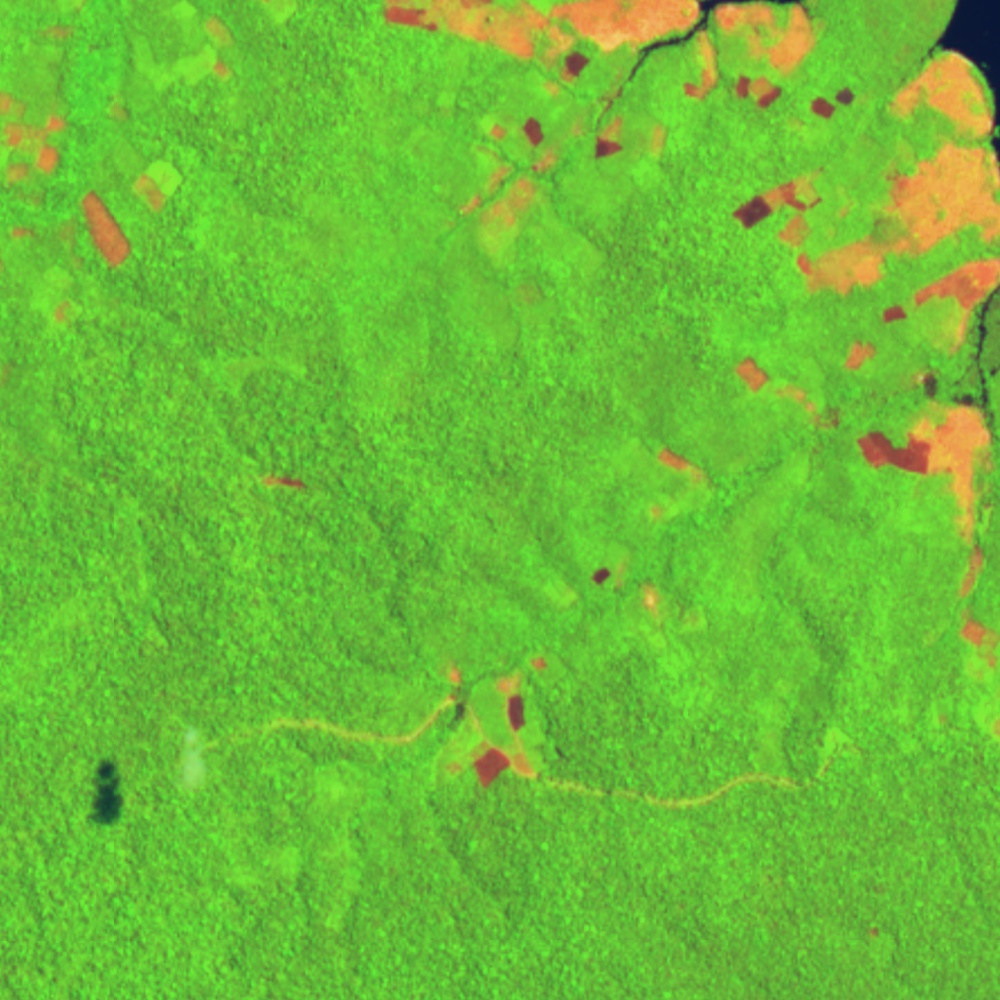legal: (380, 1, 857, 165), (800, 138, 1000, 301), (1, 92, 172, 277), (858, 368, 1000, 555), (848, 256, 1000, 366), (446, 654, 551, 805), (443, 147, 564, 237), (880, 51, 1000, 137), (735, 355, 846, 428), (731, 166, 824, 247), (580, 563, 681, 623), (958, 546, 1000, 665), (658, 443, 720, 499), (201, 13, 250, 82), (258, 469, 315, 492)
